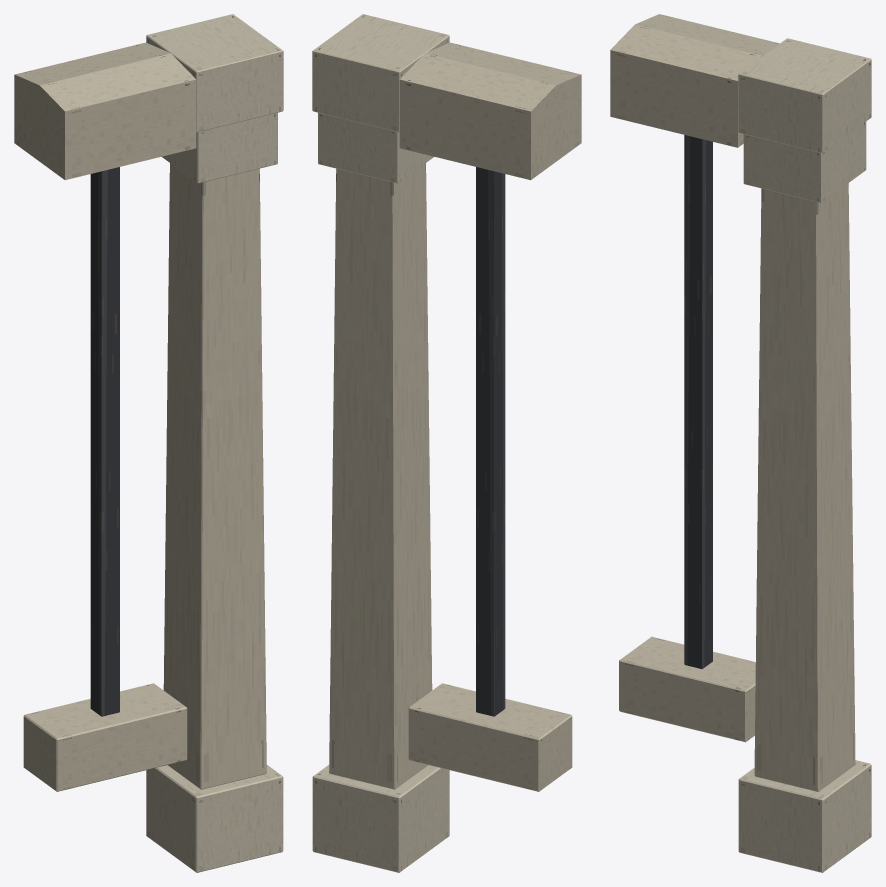
The model's file is porch_railing_end.glb.
The picture shows the model from 3 angles, left to right: view 1: azimuth 30°, elevation 25°; view 2: azimuth 150°, elevation 25°; view 3: azimuth 330°, elevation 25°; orthographic projection. The views are drawn at different scales.
Parts seen in each view (by area): view 1: porch_railing_end; view 2: porch_railing_end; view 3: porch_railing_end.
Boxes of the visible parts, x1,y1,x2,y2 form: porch_railing_end: (14, 14, 283, 872); porch_railing_end: (312, 14, 581, 872); porch_railing_end: (610, 14, 871, 872).
Size of the model in its own units: 0.3 by 1.05 by 0.12.
3 materials, 3 textured.
